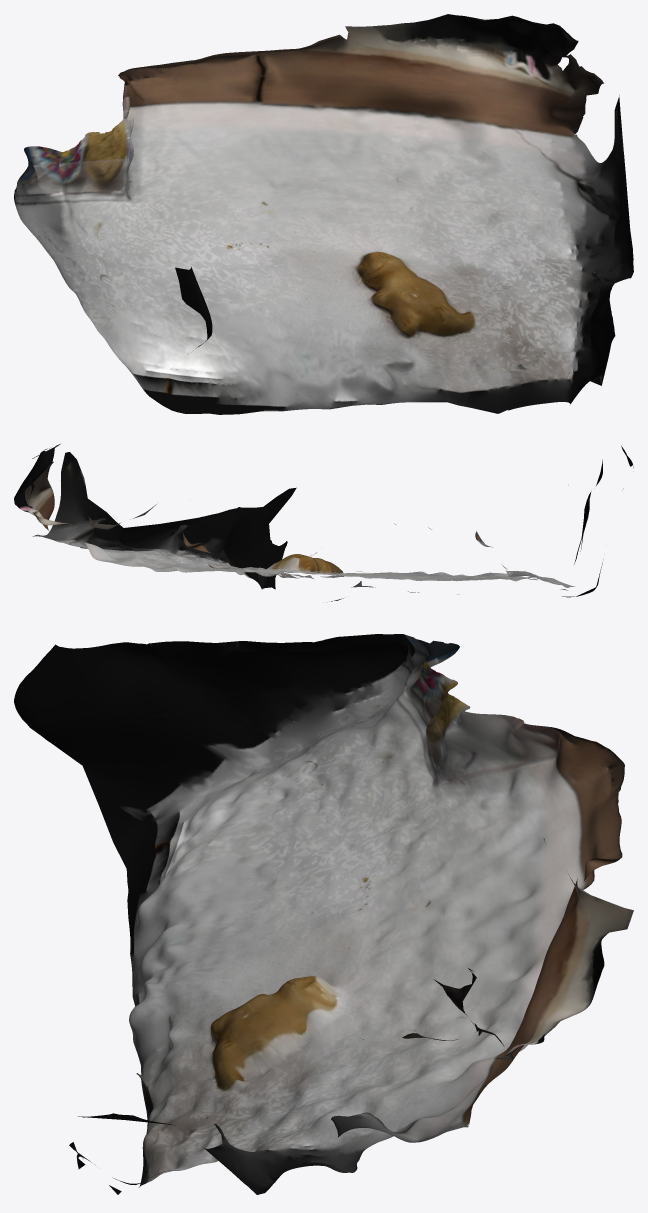
3 views of the same model, one above another, from view 1: azimuth 30°, elevation 25°; view 2: azimuth 150°, elevation 25°; view 3: azimuth 270°, elevation 25° (orthographic). The views are drawn at different scales.
Bounding box in the file's own units: 0.9544 × 0.3926 × 0.7095.
1 material, 1 textured.
